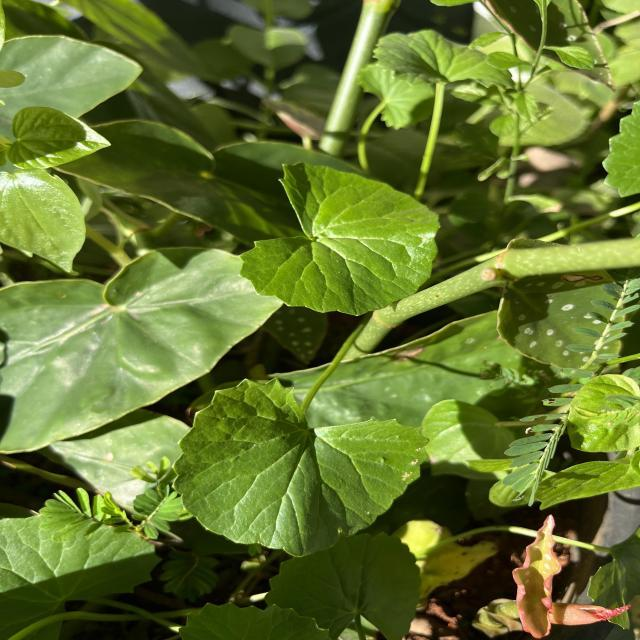Centella asiatica: (168, 374, 432, 561), (236, 158, 443, 318)
